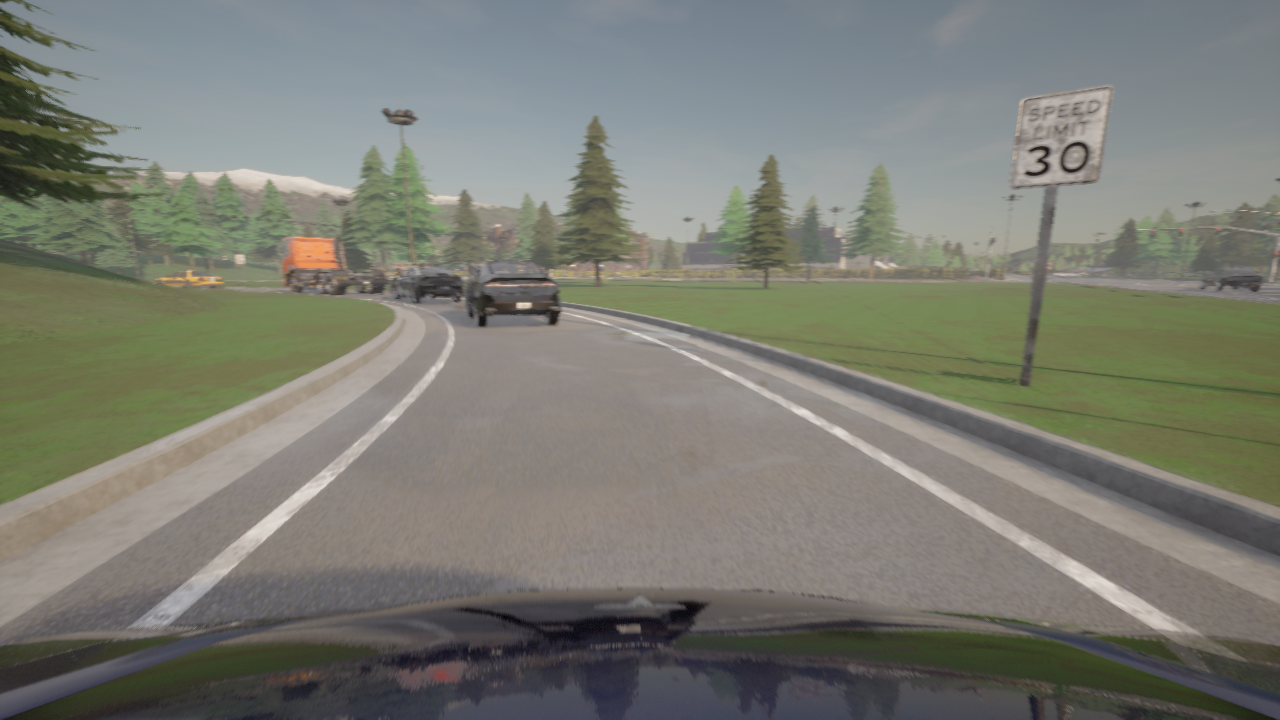cyclist: (0, 588, 1279, 719), (277, 236, 389, 295), (460, 261, 560, 327), (391, 263, 463, 302), (1199, 268, 1261, 291), (154, 269, 223, 288), (1013, 272, 1017, 273)
